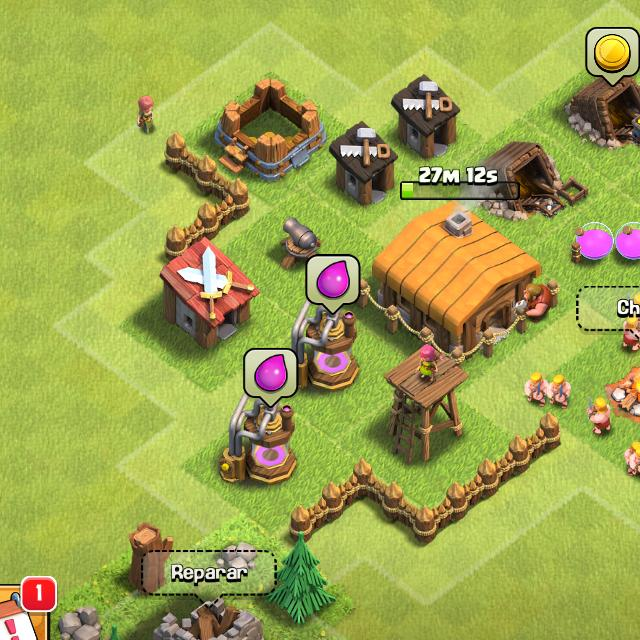Elixir: (244, 348, 298, 406), (306, 256, 360, 314)
coin: (586, 27, 640, 87)
